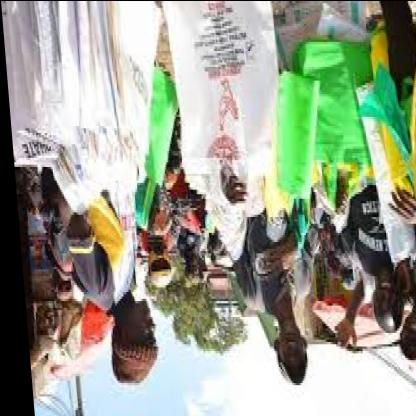Plastic: (280, 3, 416, 268), (142, 0, 310, 209), (0, 0, 152, 216)
